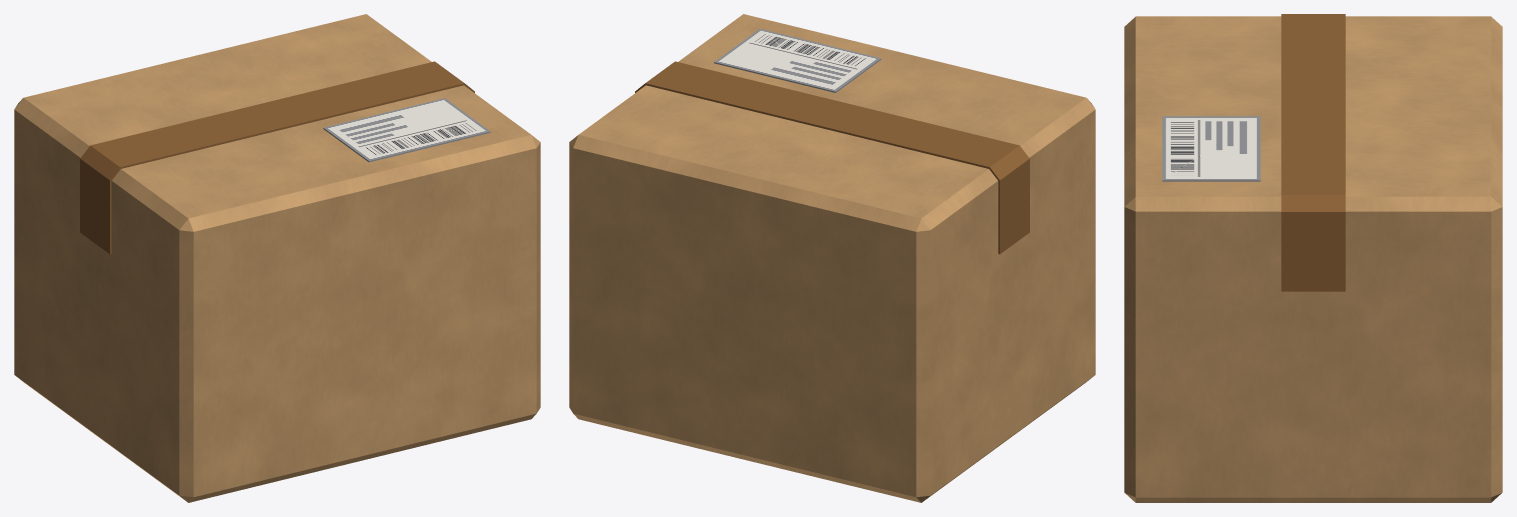
File: package.glb
3 views of the same model, side by side, from view 1: azimuth 30°, elevation 25°; view 2: azimuth 150°, elevation 25°; view 3: azimuth 270°, elevation 25° (orthographic). The views are drawn at different scales.
Visible parts, largest first — view 1: package; view 2: package; view 3: package.
Boxes of the visible parts, x1,y1,x2,y2 form: package: (14, 14, 540, 502); package: (569, 14, 1095, 502); package: (1124, 14, 1502, 502).
Size of the model in its own units: 0.6 by 0.45 by 0.5.
3 materials, 2 textured.
